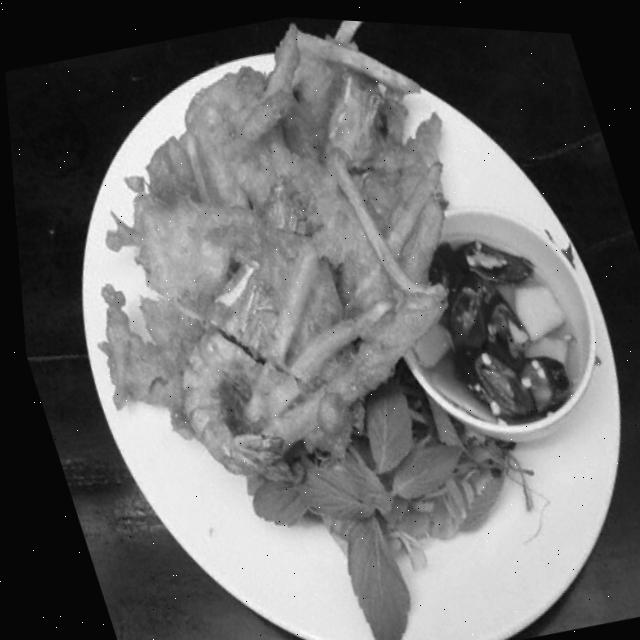炸货点心: (5, 7, 552, 526)
熟制海鲜: (5, 7, 552, 526)
